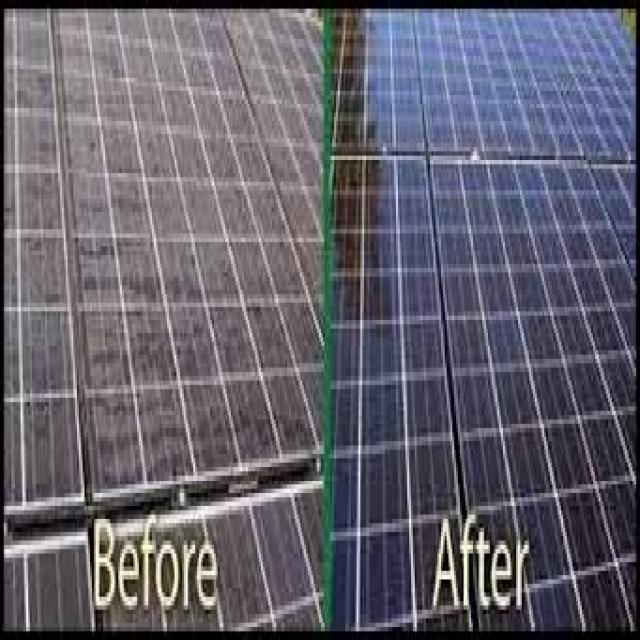clean-solar-panel: (334, 12, 636, 629)
